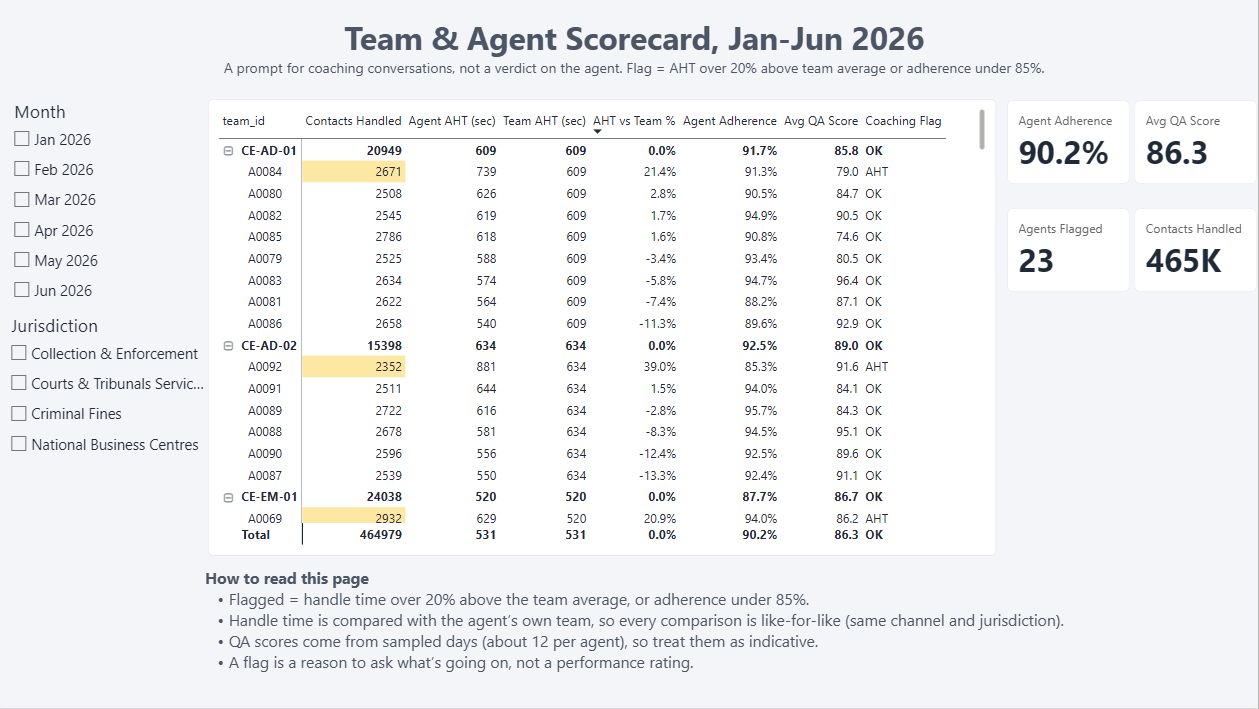

This screenshot's page, from the dashboard's own definition file:
{"tool":"powerbi","page":{"name":"Team & Agent Scorecard","canvas":[1920,1080],"ordinal":2},"visuals":[{"type":"cardVisual","fields":{"Data":["_Measures.Agent Adherence","_Measures.Avg QA Score"]},"box":[1536,150.9,384,131],"z":0},{"type":"textbox","box":[320,24,1298.7,126.7],"z":1000},{"type":"slicer","fields":{"Values":["dim_date.Month"]},"box":[16.8,150.9,148.2,329.9],"z":2000},{"type":"cardVisual","fields":{"Data":["_Measures.Agents Flagged","_Measures.Contacts Handled"]},"box":[1536,315.4,384,131],"z":8000},{"type":"slicer","fields":{"Values":["dim_jurisdiction.jurisdiction"]},"box":[12.2,477,303.2,243.8],"z":8001},{"type":"pivotTable","fields":{"Rows":["fact_agent_daily.team_id","fact_agent_daily.agent_id"],"Values":["_Measures.Contacts Handled","_Measures.Agent AHT (sec)","_Measures.Team AHT (sec)","_Measures.AHT vs Team %","_Measures.Agent Adherence","_Measures.Avg QA Score","_Measures.Coaching Flag"]},"box":[320,150.9,1200.8,696.4],"z":8002},{"type":"textbox","box":[315.4,864,1369.9,198.1],"z":8003}]}

Visuals, with their boxes in screenshot pixels (x1, y1, x2, y2), scaled from the page's 1920x1080 canvas onto the 1259x709 screenshot:
cardVisual - _Measures.Agent Adherence x _Measures.Avg QA Score: {"left": 1007, "top": 99, "right": 1258, "bottom": 185}
textbox: {"left": 210, "top": 16, "right": 1061, "bottom": 99}
slicer - dim_date.Month: {"left": 11, "top": 99, "right": 108, "bottom": 316}
cardVisual - _Measures.Agents Flagged x _Measures.Contacts Handled: {"left": 1007, "top": 207, "right": 1258, "bottom": 293}
slicer - dim_jurisdiction.jurisdiction: {"left": 8, "top": 313, "right": 207, "bottom": 473}
pivotTable - fact_agent_daily.team_id x fact_agent_daily.agent_id: {"left": 210, "top": 99, "right": 997, "bottom": 556}
textbox: {"left": 207, "top": 567, "right": 1105, "bottom": 697}
